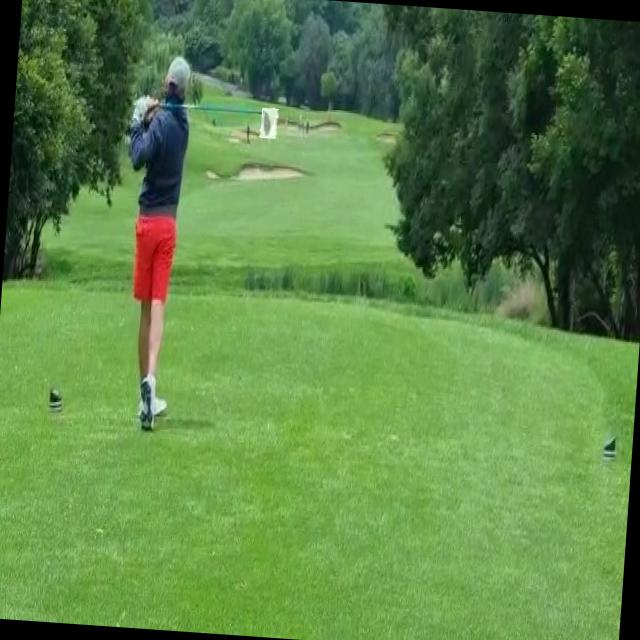club head: (260, 108, 278, 138)
